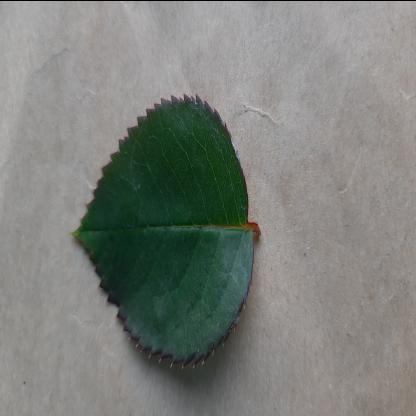normal: (75, 67, 252, 365)
